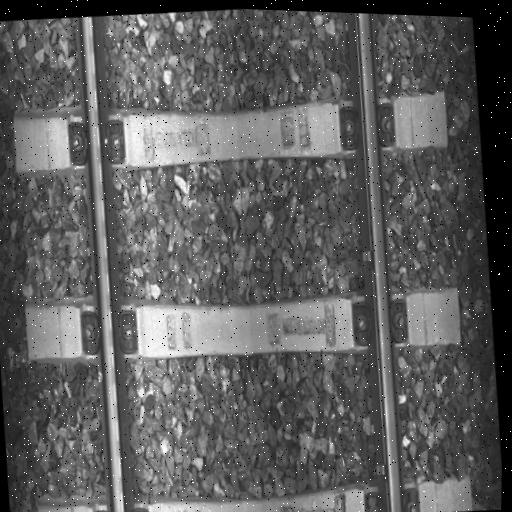sleeper: (22, 264, 465, 384), (10, 77, 451, 191), (38, 461, 476, 512)
